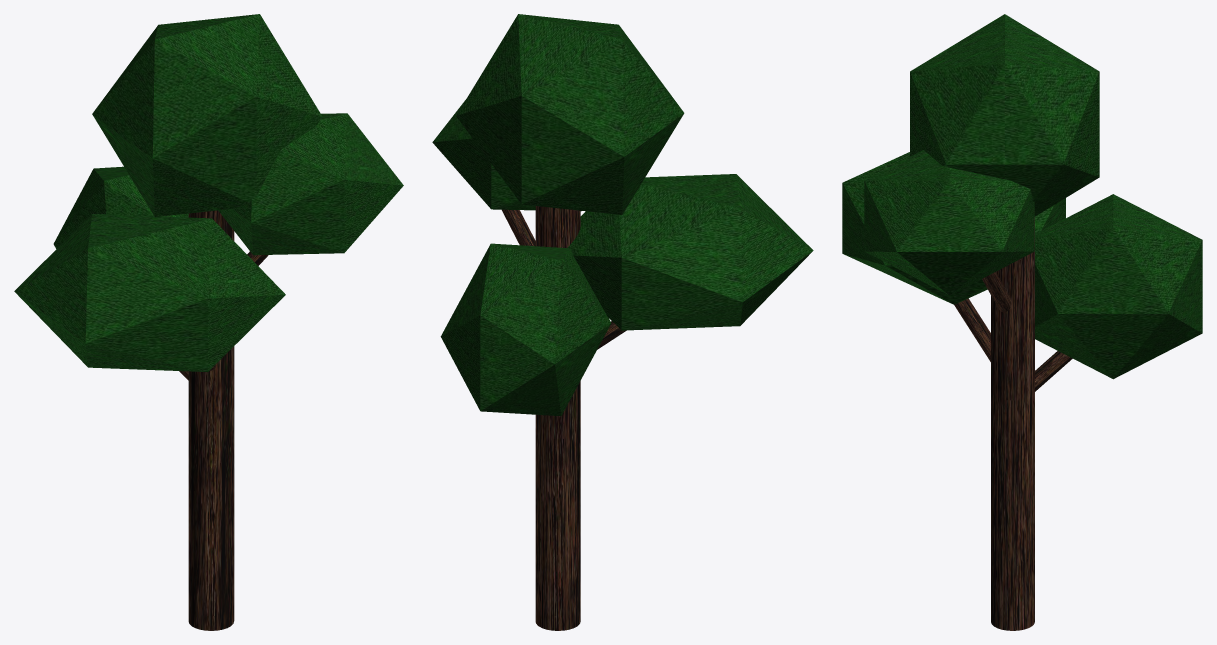
The picture shows the model from 3 angles, left to right: view 1: azimuth 30°, elevation 25°; view 2: azimuth 150°, elevation 25°; view 3: azimuth 270°, elevation 25°; orthographic projection. The views are drawn at different scales.
Visible parts, largest first — view 1: Cylinder57_Detached, Cylinder57; view 2: Cylinder57_Detached, Cylinder57; view 3: Cylinder57_Detached, Cylinder57.
Boxes of the visible parts, left/top/right/bottom form: Cylinder57_Detached: left=14, top=14, right=403, bottom=371; Cylinder57: left=179, top=210, right=268, bottom=630; Cylinder57_Detached: left=432, top=14, right=813, bottom=416; Cylinder57: left=502, top=206, right=626, bottom=630; Cylinder57_Detached: left=842, top=14, right=1202, bottom=379; Cylinder57: left=954, top=217, right=1072, bottom=630.
Size of the model in its own units: 8.2 by 14.49 by 8.17.
Materials: 2 (2 with a texture image).
